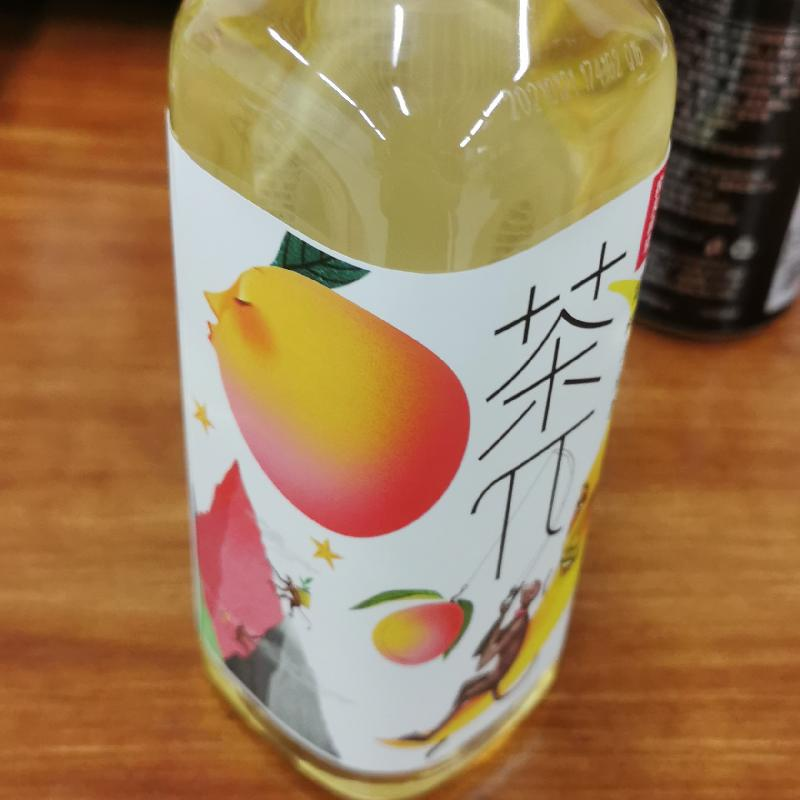bottles: (158, 1, 680, 799)
